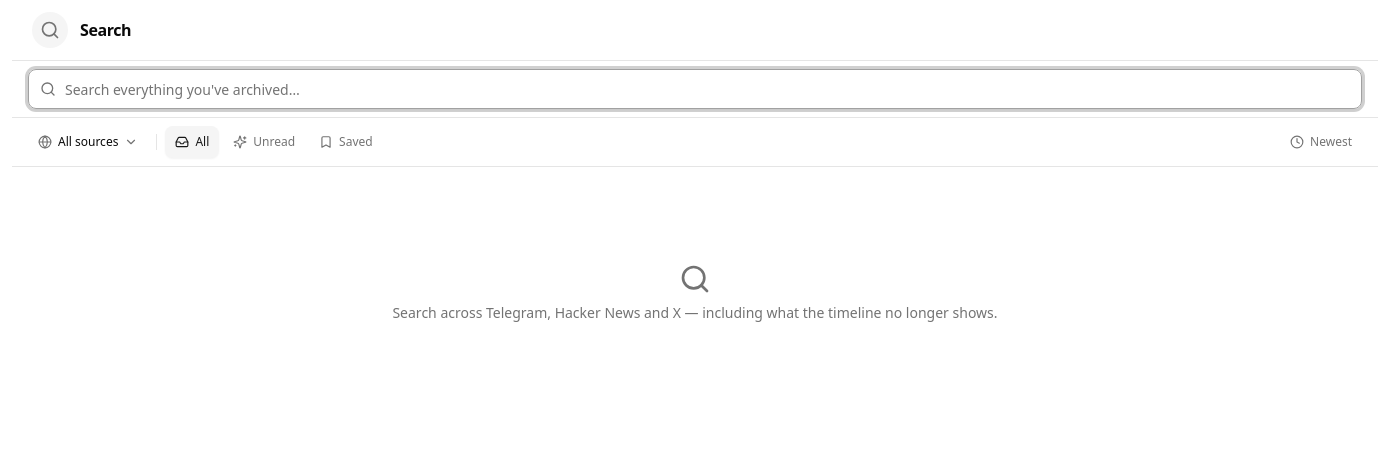
Scenario: SearchView › omits the defaults from the URL rather than spelling them out
The image size is (1378, 460).
Step 1. Type "rust" into the field labelled "Search everything you've archived…" → (695, 89), box [28,69,1362,109]
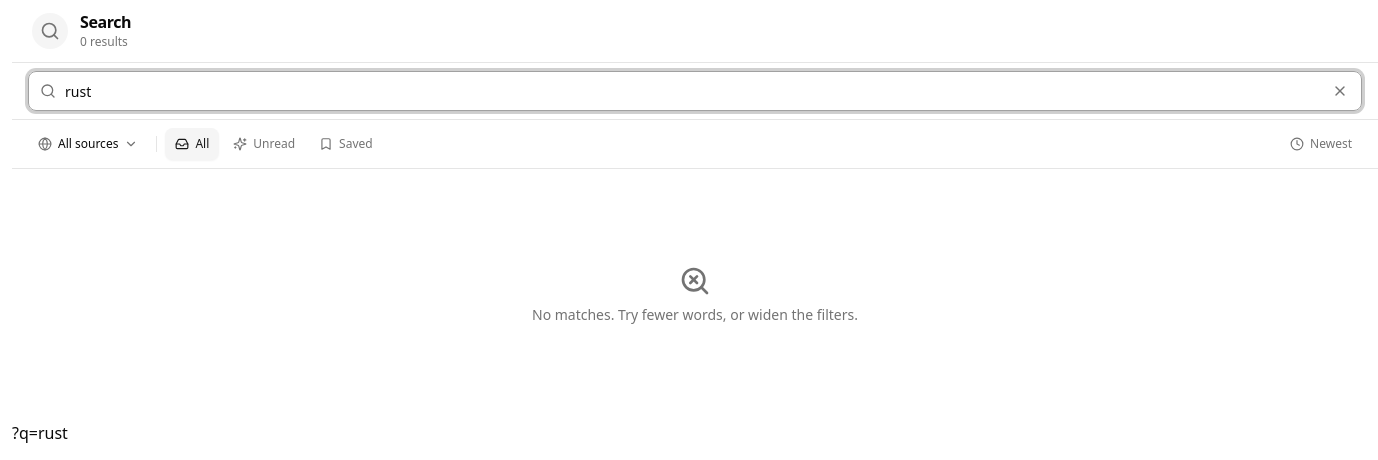
Step 2. Click the button "Unread" → click(264, 144), box [223,128,305,160]
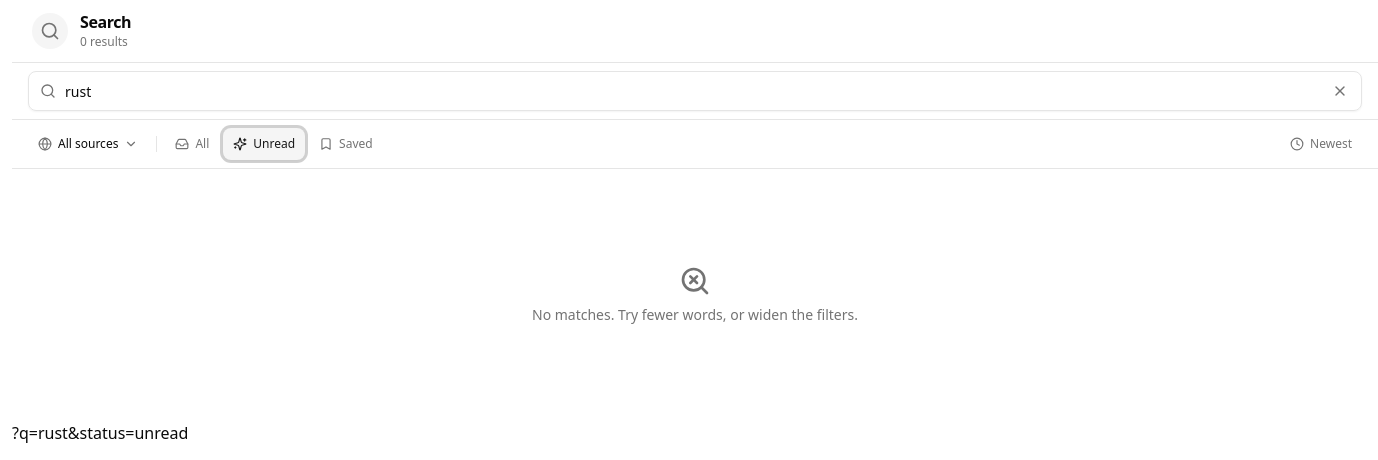
Step 3. Click the button "All" → click(192, 144), box [165,128,219,160]
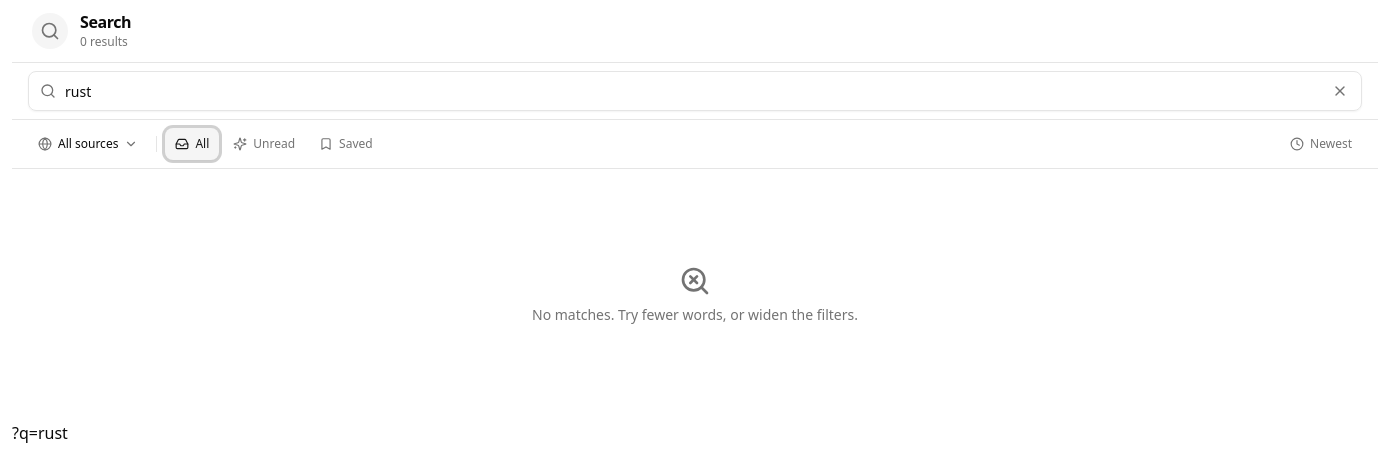
Step 4. Click the button "Newest" → click(1321, 144), box [1280,128,1362,160]
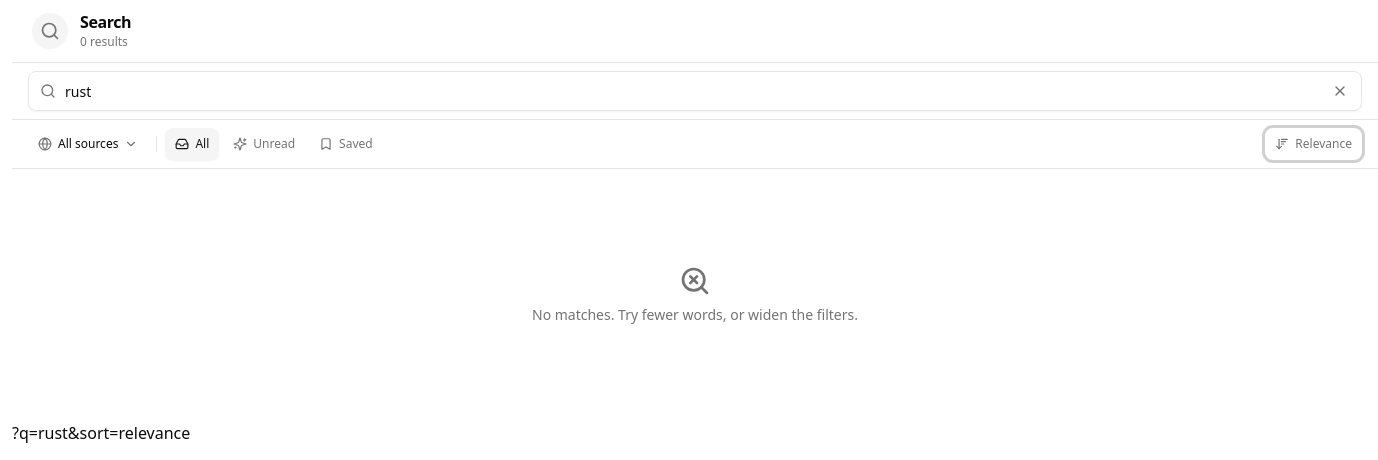
Step 5. Click the button "Relevance" → click(1314, 144), box [1265,128,1362,160]
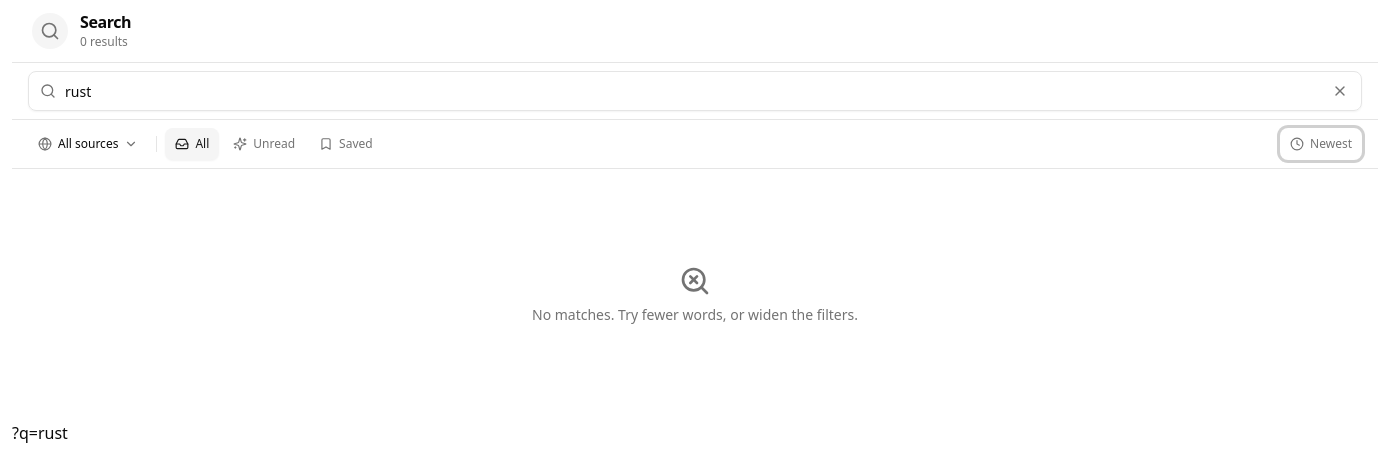
Expected: the text with test id "location" does not show "status="
Result: the text with test id "location" no longer shows "sort="
